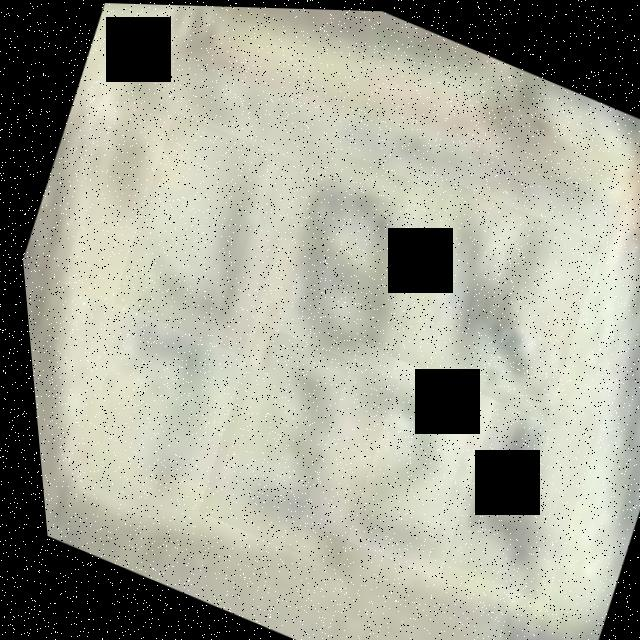2: (278, 337, 501, 578)
3: (175, 319, 404, 569)
4: (405, 363, 610, 602)
7: (49, 269, 275, 534)
B: (228, 134, 458, 390)
J: (94, 108, 312, 356)
K: (374, 168, 604, 405)
N: (369, 174, 610, 420)
